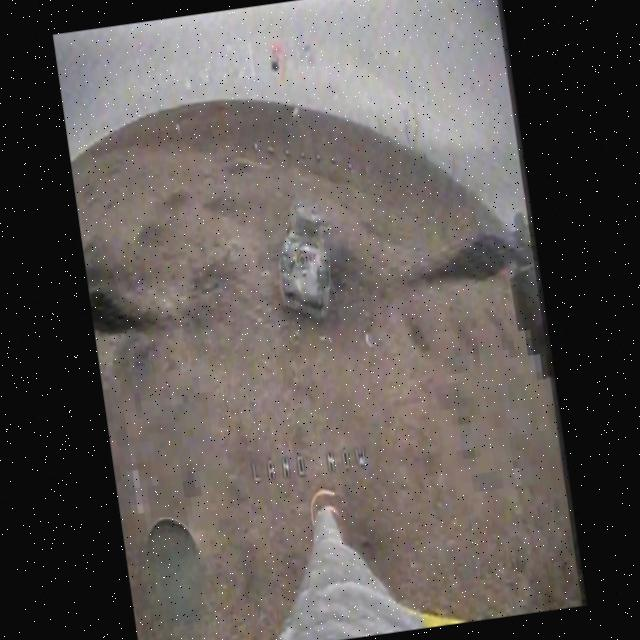APC: (271, 195, 344, 321)
